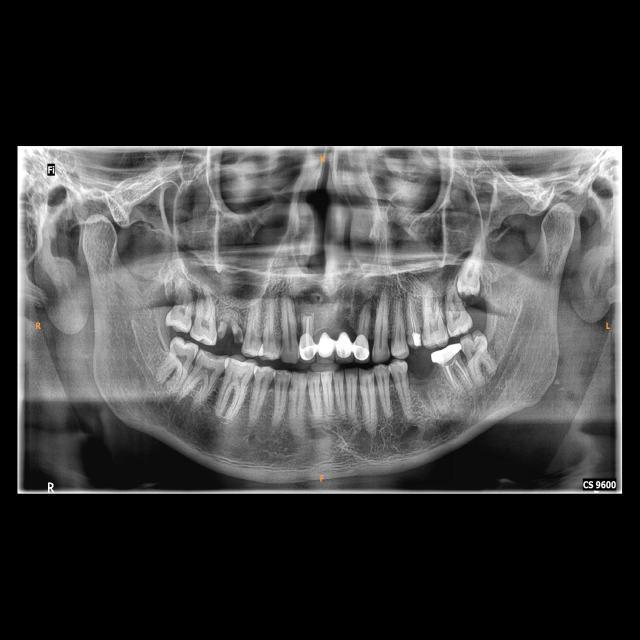dolgu: (409, 331, 425, 348)
kanal-tedavisi: (441, 364, 469, 389), (403, 296, 418, 334), (301, 310, 316, 335)
kaplama: (428, 342, 462, 364), (352, 332, 371, 359), (299, 332, 318, 357)
kirik: (215, 316, 243, 346)
kopru: (313, 326, 358, 360)
